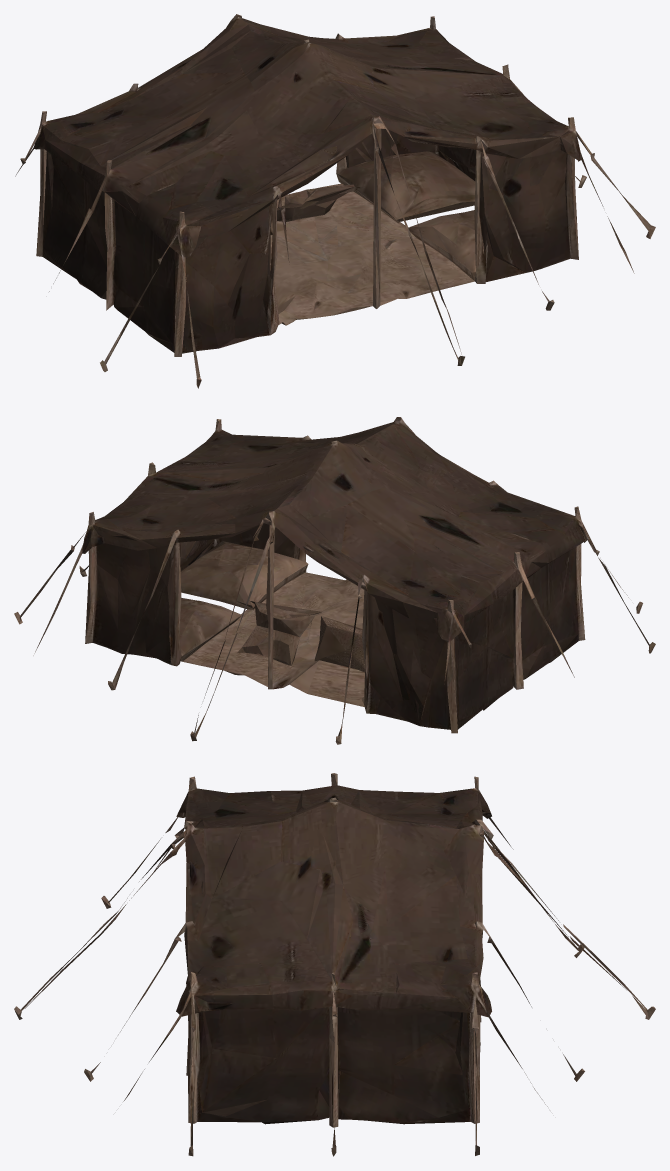
Rendered from tent.glb.
The picture shows the model from 3 angles, top to bottom: view 1: azimuth 30°, elevation 25°; view 2: azimuth 150°, elevation 25°; view 3: azimuth 270°, elevation 25°; orthographic projection. The views are drawn at different scales.
Size of the model in its own units: 1.9 by 0.7186 by 1.84.
1 material, 1 textured.
